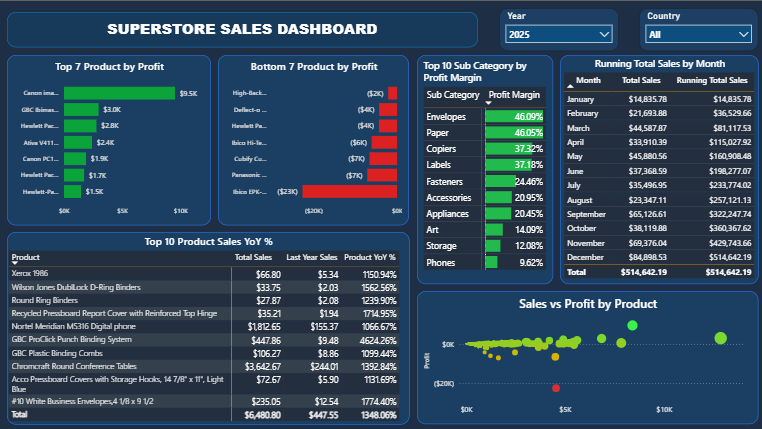

The page's visual inventory and layout, read from the dashboard file:
{"tool":"powerbi","page":{"name":"Product Page","canvas":[1280,720],"ordinal":1},"visuals":[{"type":"textbox","box":[15.8,18.7,784.8,59],"z":0},{"type":"slicer","title":"Quarter","fields":{"Values":["Dim Locations.Country"]},"box":[1069.9,11.5,198.7,72],"z":1000},{"type":"slicer","title":"Quarter","fields":{"Values":["Dim Date.Date.Variation.Date Hierarchy.Year"]},"box":[836.6,11.5,200.2,72],"z":2000},{"type":"tableEx","title":"Running Total Sales by Month","fields":{"Values":["Dim Date.Date.Variation.Date Hierarchy.Month","Sum(Fact Orders.Sales)","Fact Orders.Running Total Sales"]},"box":[937.8,90.3,331.1,381.8],"z":3000},{"type":"scatterChart","title":"Sales vs Profit by Product","fields":{"X":["Sum(Fact Orders.Sales)"],"Category":["Dim Products.Product"],"Size":["Sum(Fact Orders.Sales)"],"Y":["Sum(Fact Orders.Profit)"]},"box":[700.2,483.2,568.7,221.8],"z":4000},{"type":"barChart","title":"Bottom 7 Product by Profit","fields":{"Category":["Dim Products.Product"],"Y":["Fact Orders.Total Profit"]},"box":[369.1,90.3,318.4,283.6],"z":5000},{"type":"pivotTable","title":"Top 10 Product Sales YoY %","fields":{"Rows":["Dim Products.Product"],"Values":["Fact Orders.Total Sales","Fact Orders.Last Year Sales","Fact Orders.YoY Sales"]},"box":[15.8,384.5,671,321.1],"z":6000},{"type":"barChart","title":"Top 7 Product by Profit","fields":{"Category":["Dim Products.Product"],"Y":["Fact Orders.Total Profit"]},"box":[15.8,90.7,339.8,283.7],"z":7000},{"type":"pivotTable","title":"Top 10 Sub Category by Profit Margin","fields":{"Rows":["Dim Products.Sub Category"],"Values":["Fact Orders.Profit Margin"]},"box":[700.2,90.3,226.5,381.8],"z":8000}]}

Visuals, with their boxes in screenshot pixels (x1, y1, x2, y2), scaled from the page's 1280x720 canvas onto the 762x429 screenshot:
textbox: {"x1": 9, "y1": 11, "x2": 477, "y2": 46}
"Quarter" slicer: {"x1": 637, "y1": 7, "x2": 755, "y2": 50}
"Quarter" slicer: {"x1": 498, "y1": 7, "x2": 617, "y2": 50}
"Running Total Sales by Month" tableEx: {"x1": 558, "y1": 54, "x2": 755, "y2": 281}
"Sales vs Profit by Product" scatterChart: {"x1": 417, "y1": 288, "x2": 755, "y2": 420}
"Bottom 7 Product by Profit" barChart: {"x1": 220, "y1": 54, "x2": 409, "y2": 223}
"Top 10 Product Sales YoY %" pivotTable: {"x1": 9, "y1": 229, "x2": 409, "y2": 420}
"Top 7 Product by Profit" barChart: {"x1": 9, "y1": 54, "x2": 212, "y2": 223}
"Top 10 Sub Category by Profit Margin" pivotTable: {"x1": 417, "y1": 54, "x2": 552, "y2": 281}
